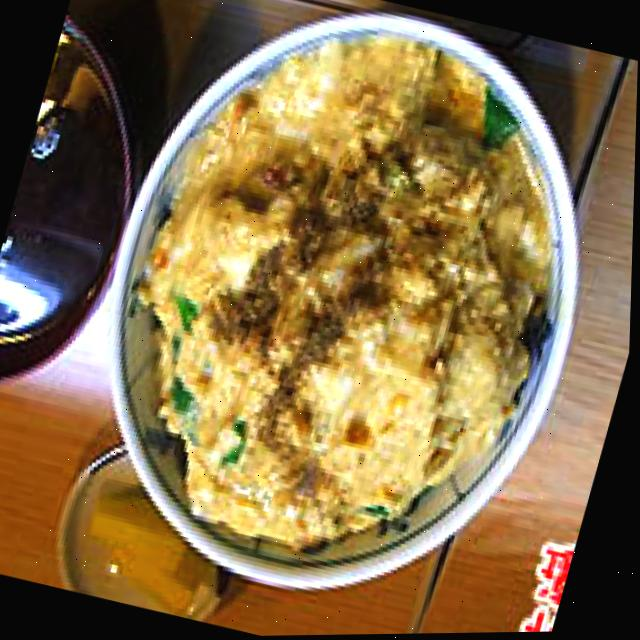米饭主食: (12, 0, 640, 640)
